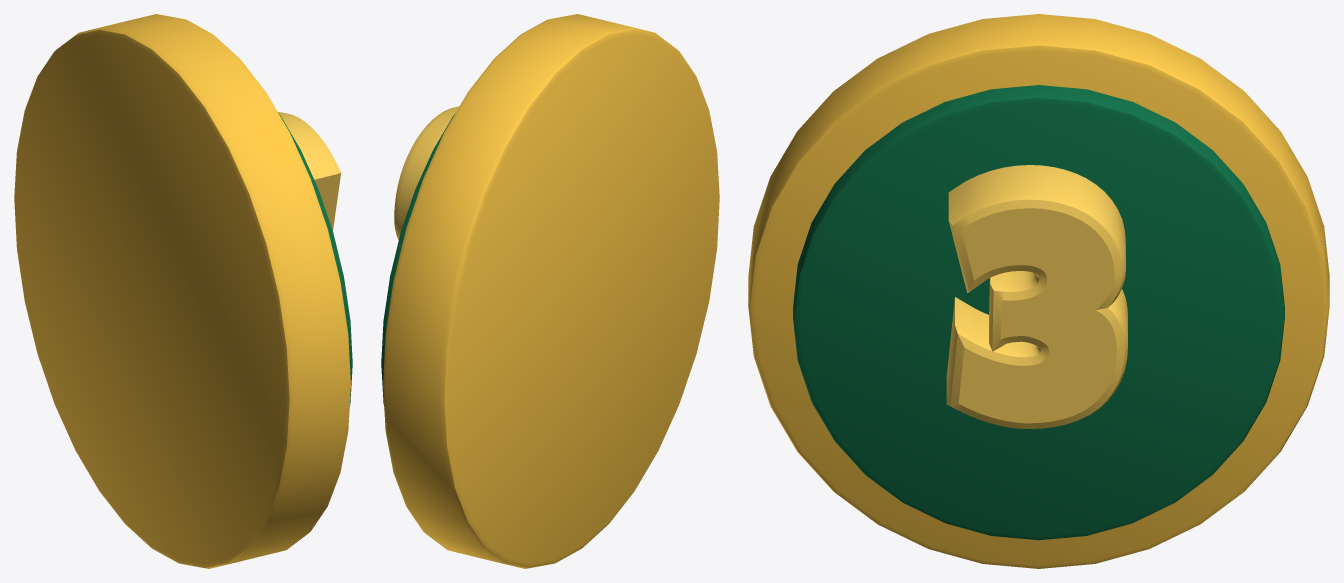
File: PlazaBay3.fbx
3 renders of one model, left to right at view 1: azimuth 30°, elevation 25°; view 2: azimuth 150°, elevation 25°; view 3: azimuth 270°, elevation 25°, orthographic. The views are drawn at different scales.
Visible parts, largest first — view 1: PlazaBay3; view 2: PlazaBay3; view 3: PlazaBay3.
Part boxes in pixels (left/top/right/bottom): PlazaBay3: left=14, top=14, right=352, bottom=568; PlazaBay3: left=381, top=14, right=719, bottom=568; PlazaBay3: left=748, top=14, right=1329, bottom=568.
Bounding box in the file's own units: 82.5 × 260 × 260.
